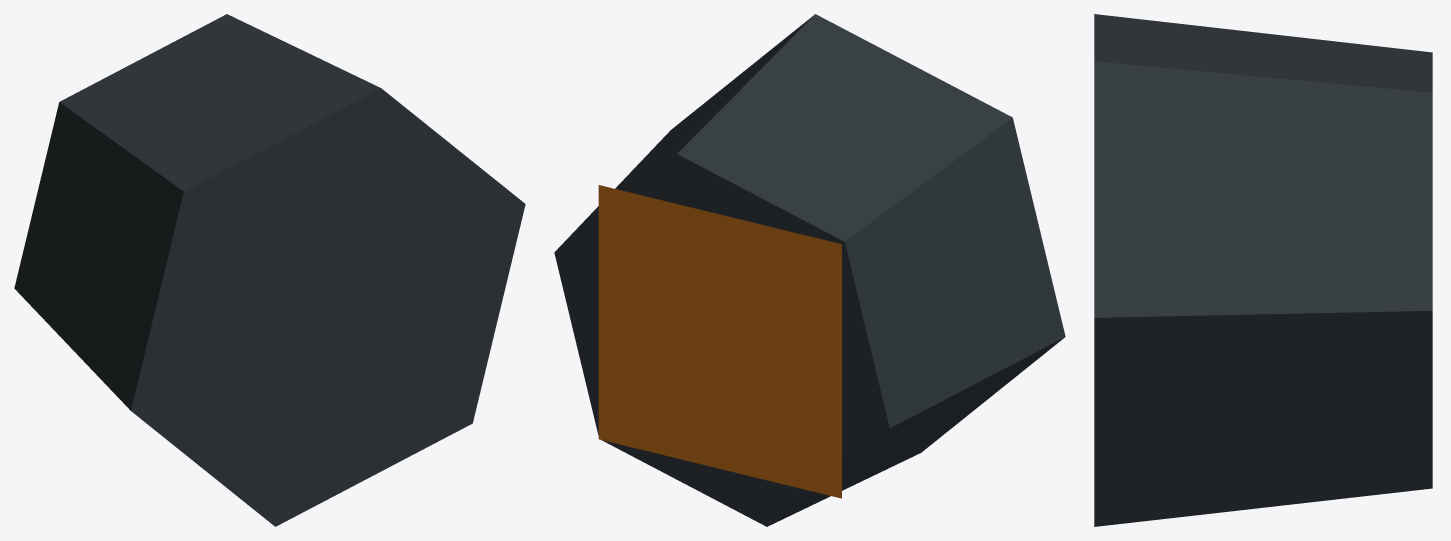
3 views of the same model, side by side, from view 1: azimuth 30°, elevation 25°; view 2: azimuth 150°, elevation 25°; view 3: azimuth 270°, elevation 25° (orthographic). The views are drawn at different scales.
Visible parts, largest first — view 1: mount; view 2: mount; view 3: mount.
Boxes of the visible parts, <box> form: mount: <box>14,14,525,526</box>; mount: <box>554,14,1065,526</box>; mount: <box>1094,14,1432,526</box>.
Bounding box in the file's own units: 3.86 × 3.86 × 2.51.
